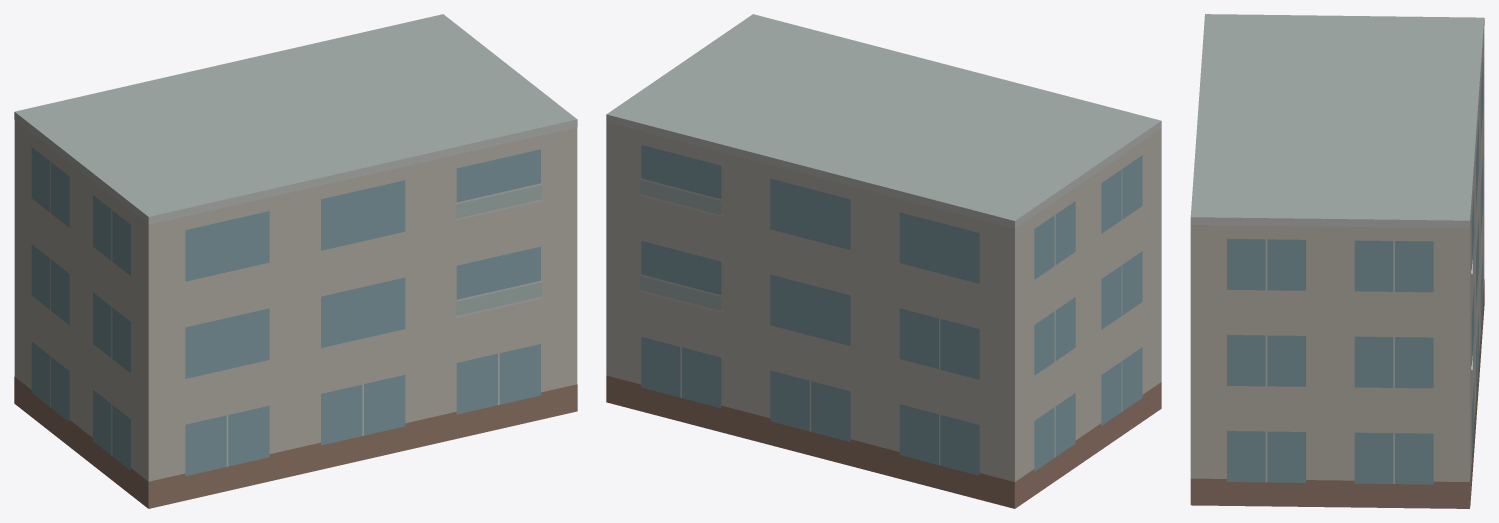
File: survey-upis-32840624.glb
3 renders of one model, left to right at view 1: azimuth 30°, elevation 25°; view 2: azimuth 150°, elevation 25°; view 3: azimuth 270°, elevation 25°, orthographic.
Visible parts, largest first — view 1: survey-upis-32840624.tmp; view 2: survey-upis-32840624.tmp; view 3: survey-upis-32840624.tmp.
Part boxes in pixels (box(x1,y1,x2,y2)): survey-upis-32840624.tmp: box(14, 14, 577, 508); survey-upis-32840624.tmp: box(606, 14, 1161, 508); survey-upis-32840624.tmp: box(1190, 14, 1484, 508).
Bounding box in the file's own units: 14 × 9.1 × 8.41.
